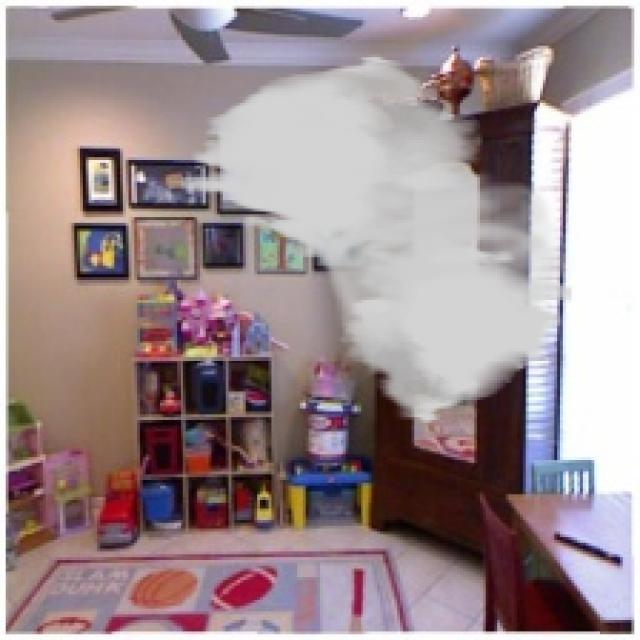smoke: (180, 54, 574, 426)
